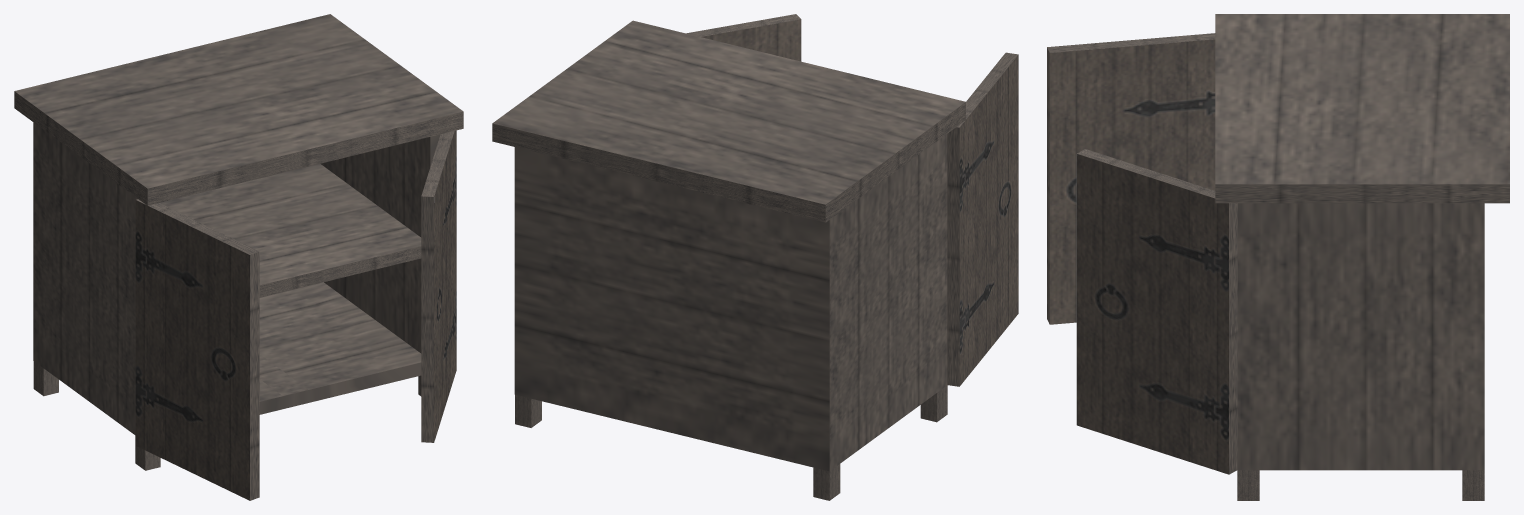
File: cabinet.fbx
The picture shows the model from 3 angles, left to right: view 1: azimuth 30°, elevation 25°; view 2: azimuth 150°, elevation 25°; view 3: azimuth 270°, elevation 25°; orthographic projection. The views are drawn at different scales.
Parts seen in each view (by area): view 1: CABINET; view 2: CABINET; view 3: CABINET.
Part boxes in pixels (<box>): CABINET: <box>14,14,463,500</box>; CABINET: <box>492,14,1018,500</box>; CABINET: <box>1047,14,1509,500</box>.
Bounding box in the file's own units: 356 × 311 × 405.
2 materials, 2 textured.
